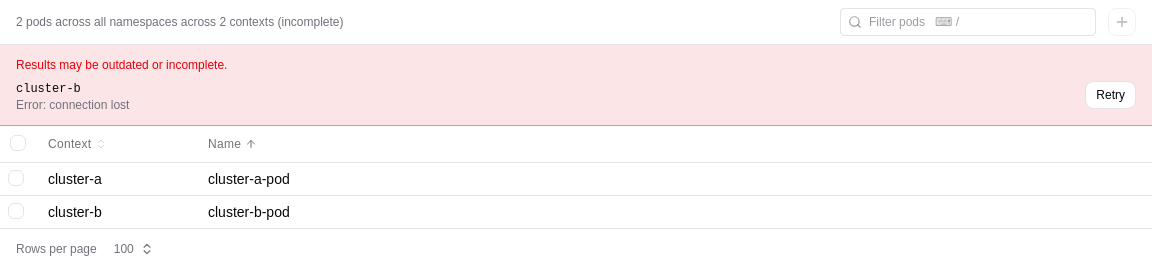
it: ResourceTable load failures › preserves cached rows and healthy contexts, then retries only the failed context
Expected: the message "Results may be outdated or incomplete. cluster-b Error: connection lost Retry" is shown, [0,45,1151,126]
Click the button "Retry": (1111,95) [1085,81,1136,109]
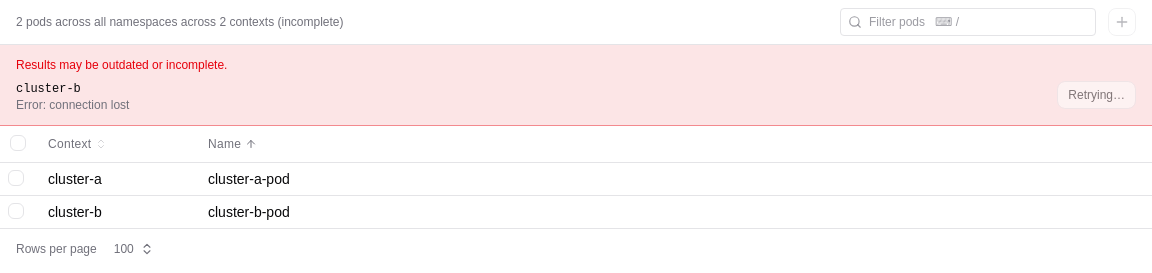
Expected: the text "cluster-b-pod" is shown, [208,204,290,220]
Expected: the text "Retrying…" is shown
Click the button "Retrying…": (1097,95) [1057,81,1136,109]
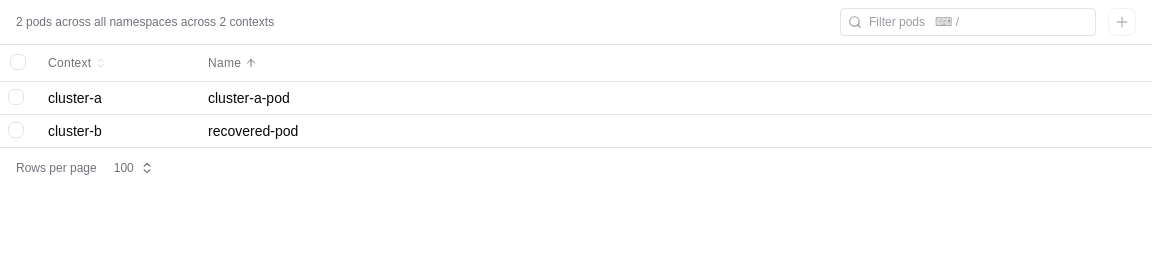
Expected: the message is gone
Expected: the text "recovered-pod" is shown, [208,123,298,139]
Expected: the text "cluster-b-pod" is gone
